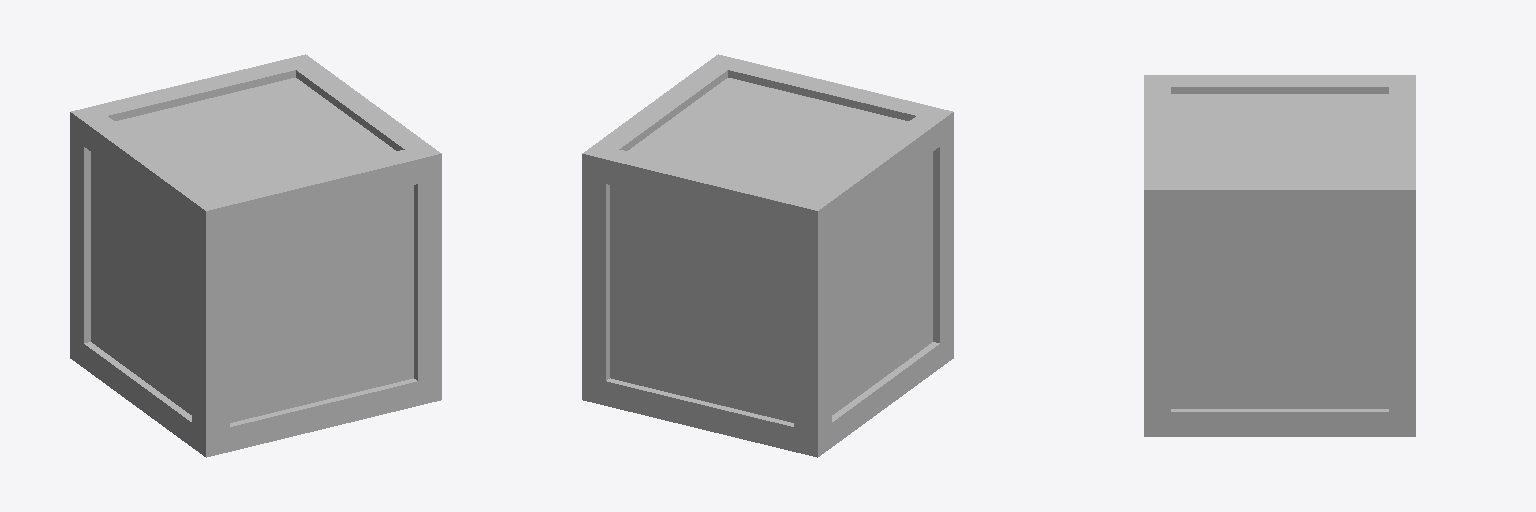
Rendered from crate_1_001.obj.
3 views of the same model, side by side, from view 1: azimuth 30°, elevation 25°; view 2: azimuth 150°, elevation 25°; view 3: azimuth 270°, elevation 25° (orthographic).
Parts seen in each view (by area): view 1: crate_001_box_001; view 2: crate_001_box_001; view 3: crate_001_box_001.
Part boxes in pixels (x1,y1,x2,y2): crate_001_box_001: (70,54,441,457); crate_001_box_001: (582,54,953,457); crate_001_box_001: (1144,75,1415,436).
Bounding box in the file's own units: 0.9951 × 0.9946 × 0.9931.